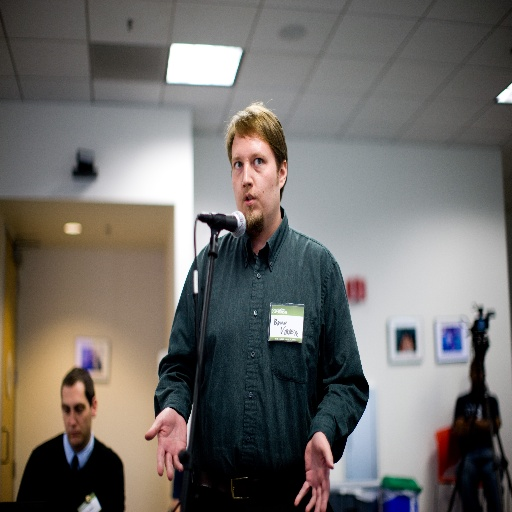hand: (143, 403, 186, 484), (297, 429, 337, 508)
